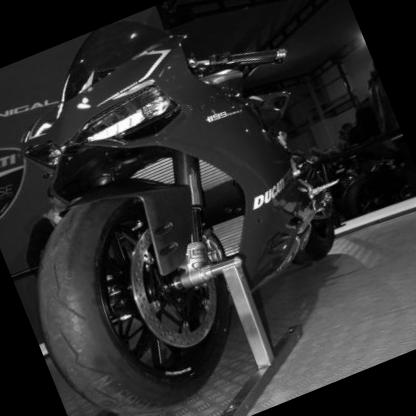moto: (1, 1, 396, 416)
